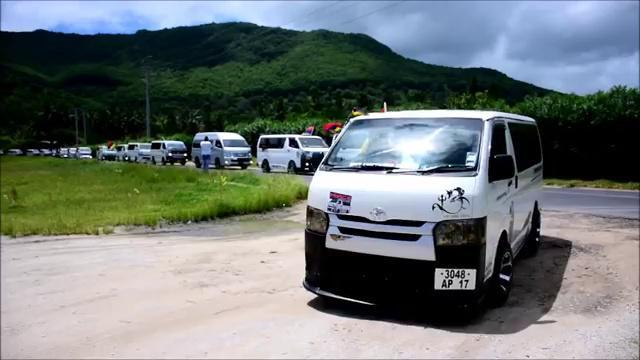van: (306, 110, 544, 324)
